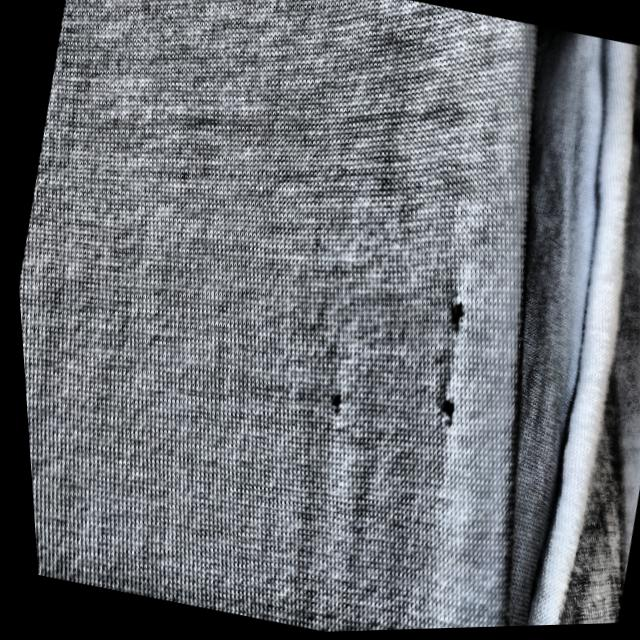Hole: (427, 287, 475, 348), (419, 387, 465, 440), (312, 376, 354, 428)
